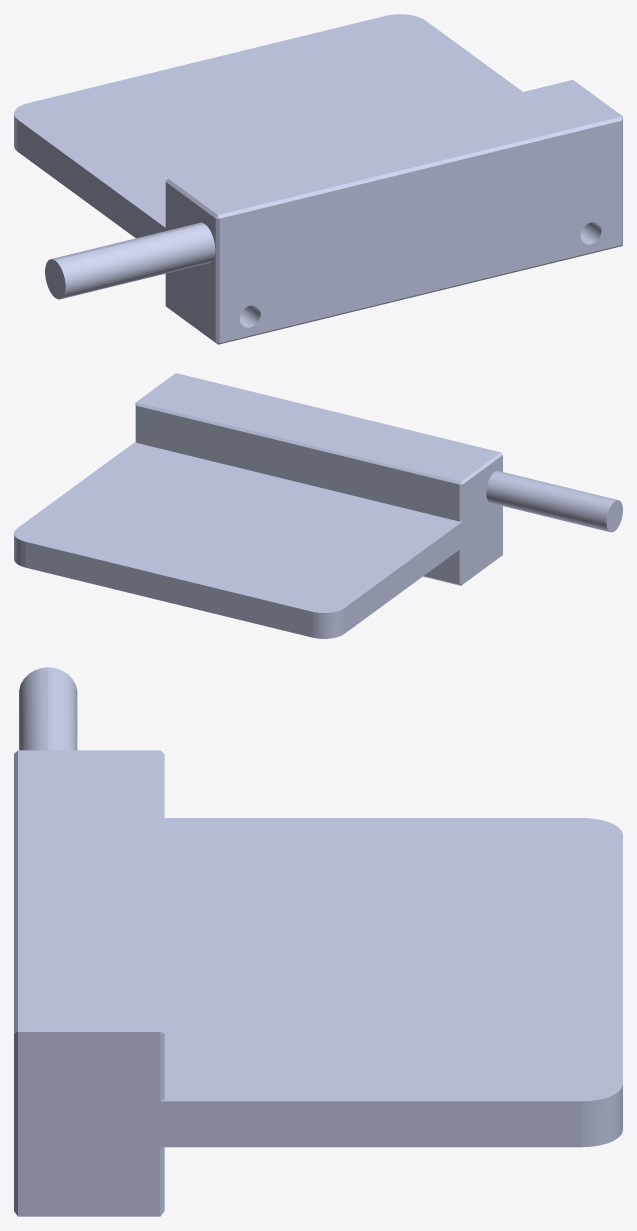
File: MUF-3.glb
3 renders of one model, top to bottom at view 1: azimuth 30°, elevation 25°; view 2: azimuth 150°, elevation 25°; view 3: azimuth 270°, elevation 25°, orthographic. The views are drawn at different scales.
Visible parts, largest first — view 1: MUF-3_node; view 2: MUF-3_node; view 3: MUF-3_node.
Boxes of the visible parts, x1,y1,x2,y2 form: MUF-3_node: (14, 14, 622, 344); MUF-3_node: (14, 373, 622, 638); MUF-3_node: (14, 667, 622, 1216).
Size of the model in its own units: 67 by 14.9 by 44.5.
